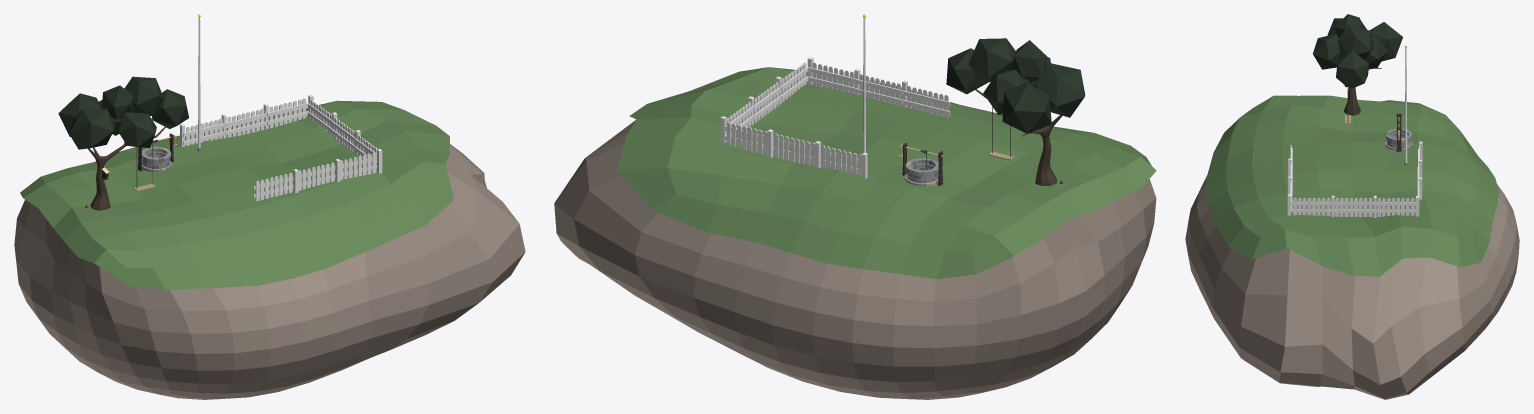
The picture shows the model from 3 angles, left to right: view 1: azimuth 30°, elevation 25°; view 2: azimuth 150°, elevation 25°; view 3: azimuth 270°, elevation 25°; orthographic projection. The views are drawn at different scales.
Visible parts, largest first — view 1: Ground, Leafs, Fence.007, Fence.008, Fence.002, Fence, Fence.001, Fence.003, Tree, Well, Fence.005, Fence.004; view 2: Ground, Leafs, Fence.007, Fence.008, Fence.002, Fence, Fence.001, Fence.003, Tree, Well, Fence.005, Fence.006 (+1 smaller); view 3: Ground, Leafs, Fence.005, Fence.006, Fence.004, Well, Tree.
Boxes of the visible parts, left/top/right/bottom form: Ground: left=14, top=100, right=525, bottom=399; Leafs: left=58, top=76, right=188, bottom=149; Fence.007: left=221, top=108, right=266, bottom=138; Fence.008: left=263, top=98, right=308, bottom=129; Fence.002: left=253, top=169, right=298, bottom=201; Fence: left=340, top=149, right=382, bottom=179; Fence.001: left=298, top=159, right=340, bottom=190; Fence.003: left=180, top=118, right=225, bottom=146; Tree: left=88, top=126, right=166, bottom=210; Well: left=142, top=146, right=171, bottom=171; Fence.005: left=331, top=112, right=355, bottom=152; Fence.004: left=308, top=94, right=332, bottom=135; Ground: left=554, top=67, right=1156, bottom=399; Leafs: left=946, top=38, right=1085, bottom=133; Fence.007: left=773, top=133, right=820, bottom=168; Fence.008: left=725, top=122, right=773, bottom=158; Fence.002: left=902, top=80, right=950, bottom=117; Fence: left=807, top=57, right=855, bottom=93; Fence.001: left=854, top=68, right=902, bottom=106; Fence.003: left=820, top=145, right=867, bottom=179; Tree: left=975, top=89, right=1062, bottom=185; Well: left=905, top=158, right=938, bottom=186; Fence.005: left=748, top=82, right=780, bottom=125; Fence.006: left=775, top=62, right=808, bottom=104; Ground: left=1185, top=95, right=1519, bottom=399; Leafs: left=1313, top=14, right=1402, bottom=87; Fence.005: left=1334, top=195, right=1376, bottom=217; Fence.006: left=1291, top=195, right=1334, bottom=216; Fence.004: left=1376, top=196, right=1418, bottom=216; Well: left=1385, top=128, right=1412, bottom=150; Tree: left=1343, top=67, right=1381, bottom=115.
Size of what is drawn, in the model's own units: 17.49 by 11.92 by 12.59.
